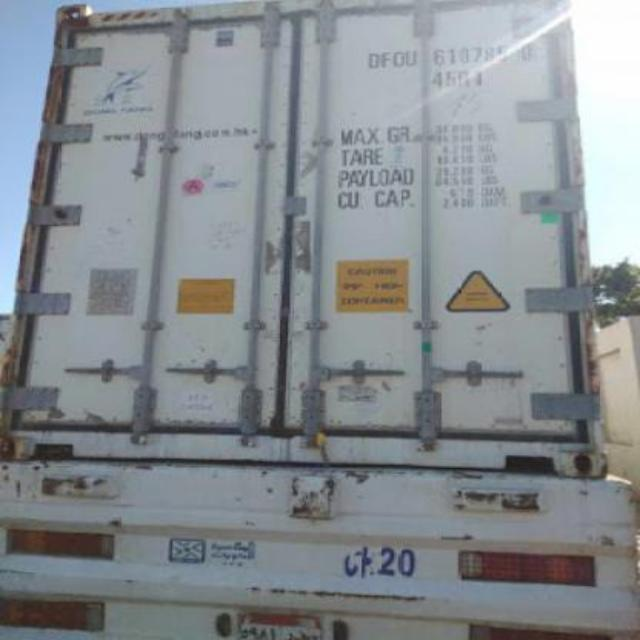0: (458, 46, 472, 66), (520, 44, 532, 60)
1: (444, 49, 458, 65)
5: (498, 44, 510, 66)
6: (432, 47, 446, 67)
7: (470, 44, 486, 66)
8: (484, 42, 496, 62)
D: (368, 51, 380, 69)
F: (380, 50, 392, 66)
O: (392, 50, 406, 66)
U: (404, 51, 420, 67)
